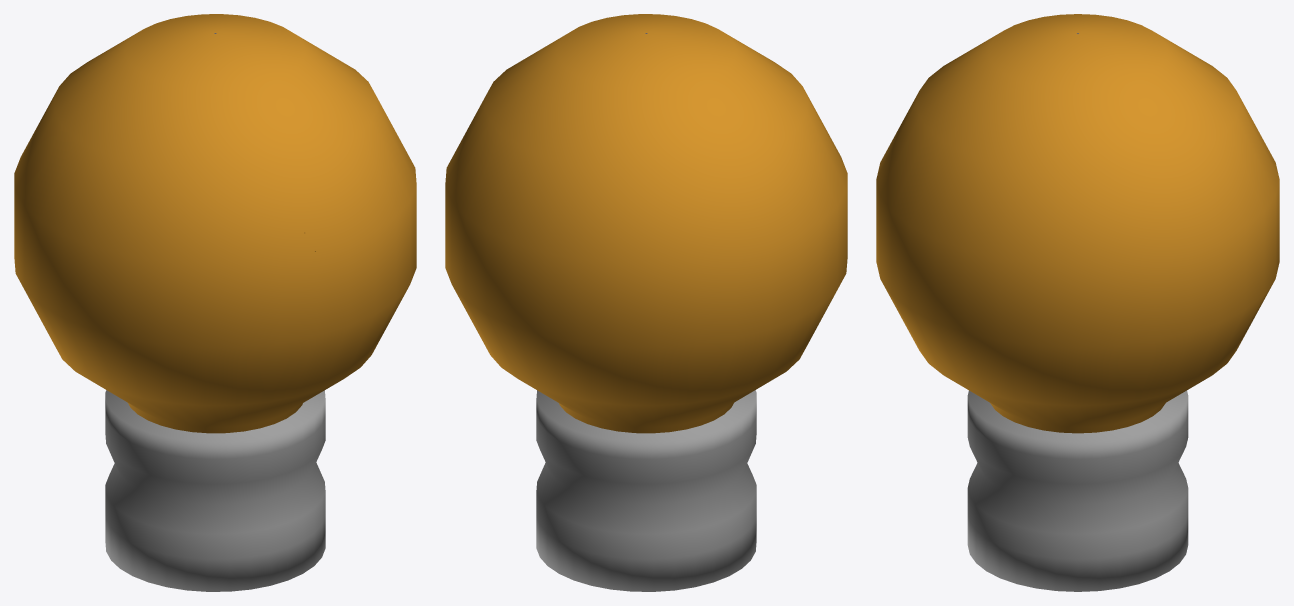
File: bulb.fbx
3 renders of one model, left to right at view 1: azimuth 30°, elevation 25°; view 2: azimuth 150°, elevation 25°; view 3: azimuth 270°, elevation 25°, orthographic.
Visible parts, largest first — view 1: Sphere, Cylinder; view 2: Sphere, Cylinder; view 3: Sphere, Cylinder.
Part boxes in pixels (x1,y1,x2,y2): Sphere: [14, 14, 416, 433]; Cylinder: [105, 390, 325, 591]; Sphere: [445, 14, 847, 433]; Cylinder: [536, 390, 756, 591]; Sphere: [876, 14, 1279, 433]; Cylinder: [967, 390, 1188, 591].
Size of the model in its own units: 1.46 by 2.19 by 1.46.
1 material, 1 textured.
